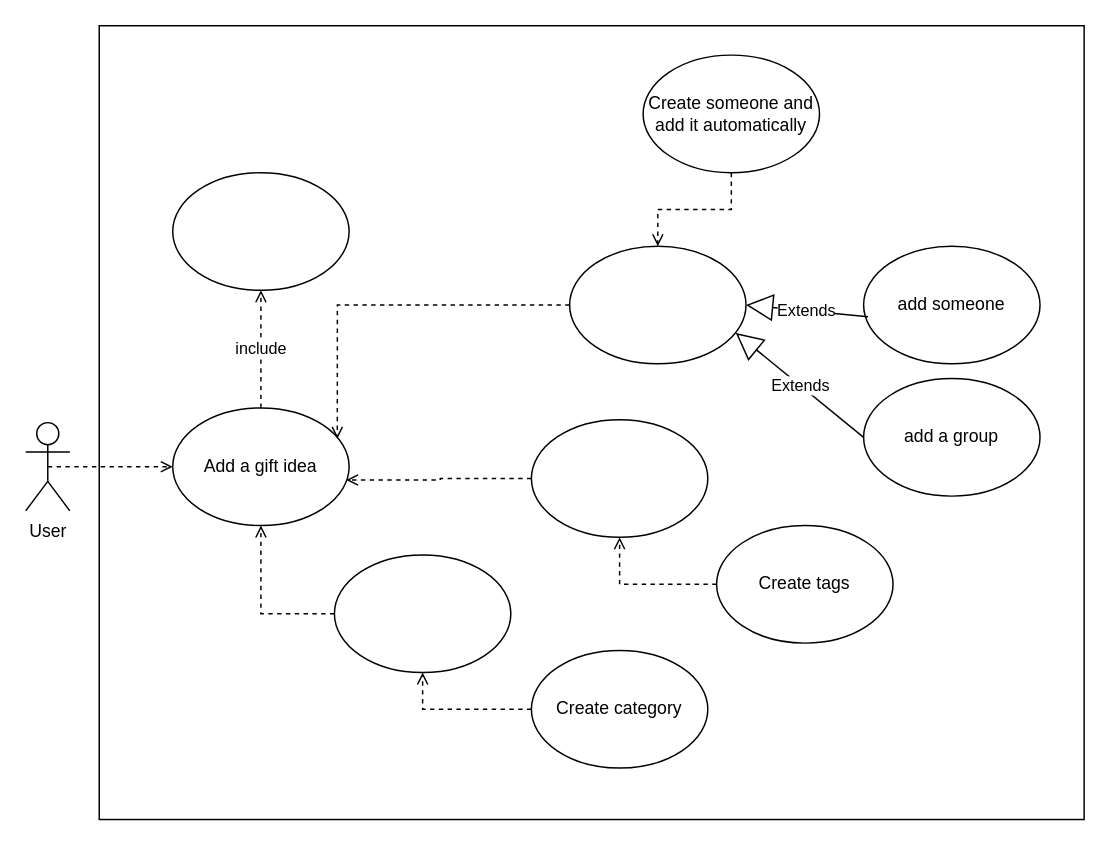
Image size: 1110x845. Some labels were removed from this diagram. Here are the shapes that lost their labels. From the top down, the centre of each, then its label:
[260,230]: Fill details of the idea
[657,304]: Add people who woulk like this present (wisherlist)
[619,477]: add tags
[422,613]: select a category
